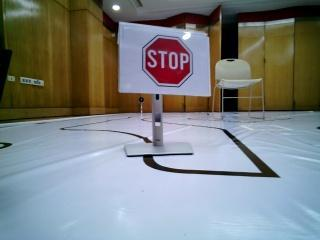stop: (127, 27, 205, 91)
